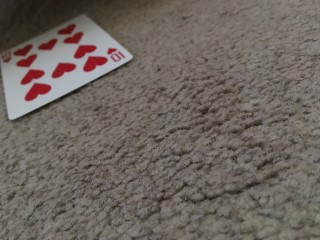TenOfHearts: (1, 14, 134, 121)
